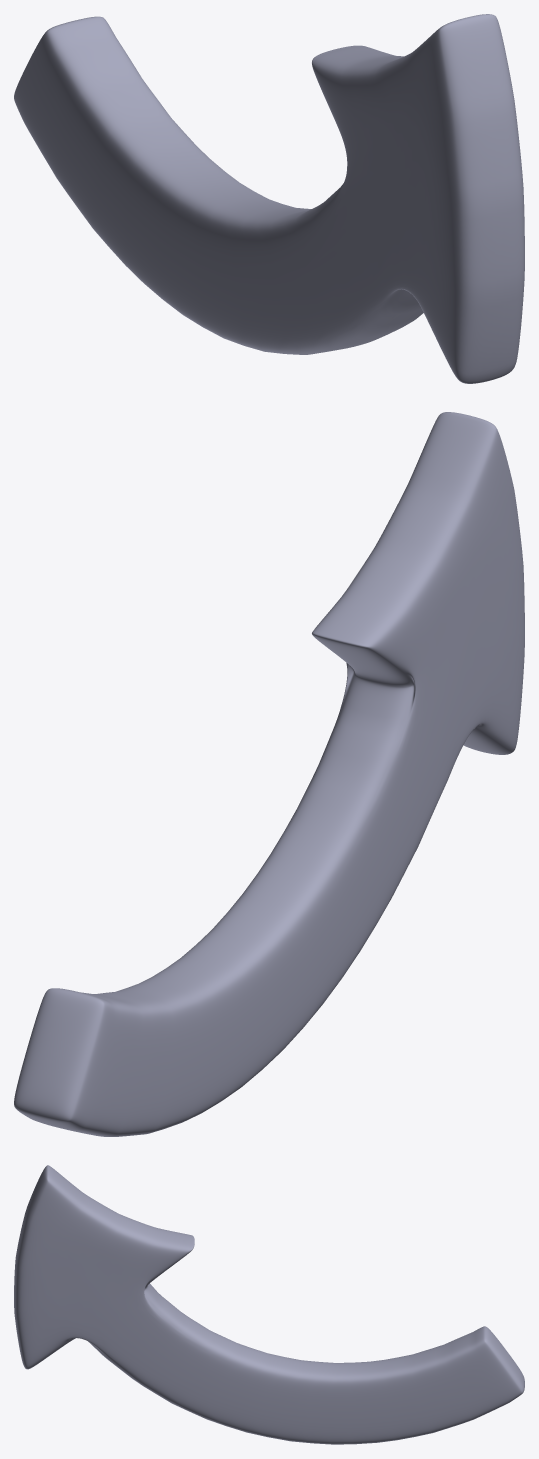
File: arrow.glb
3 views of the same model, one above another, from view 1: azimuth 30°, elevation 25°; view 2: azimuth 150°, elevation 25°; view 3: azimuth 270°, elevation 25° (orthographic). The views are drawn at different scales.
Visible parts, largest first — view 1: Cube; view 2: Cube; view 3: Cube.
Part boxes in pixels (bbox=[...]): Cube: bbox=[14, 14, 524, 383]; Cube: bbox=[14, 412, 524, 1136]; Cube: bbox=[14, 1165, 524, 1444].
Bounding box in the file's own units: 0.2113 × 1.35 × 2.32.
